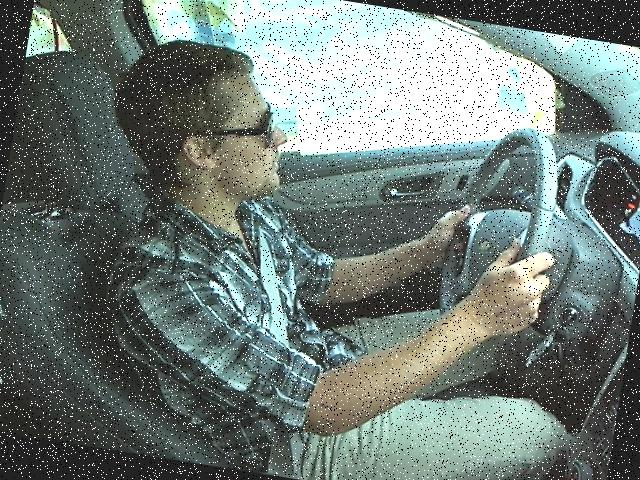c0 - Safe Driving: (60, 23, 574, 452)
